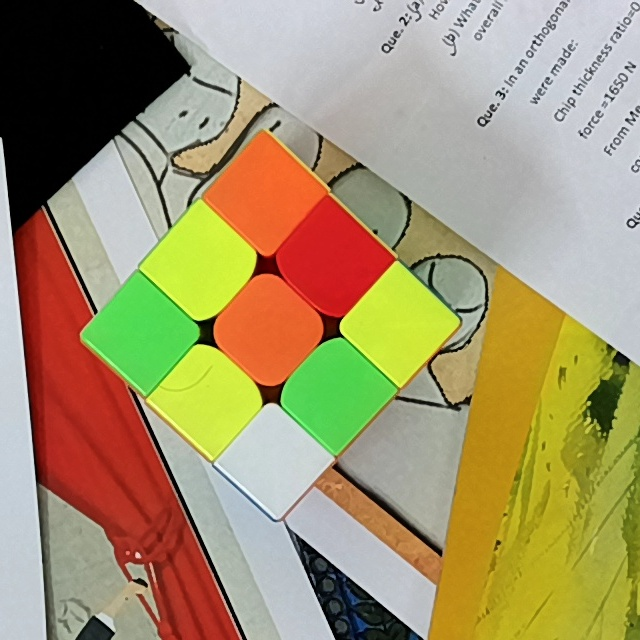tile: (236, 298, 301, 362), (300, 229, 364, 292), (232, 165, 294, 228), (170, 232, 232, 295), (176, 368, 237, 430), (111, 303, 172, 365), (370, 294, 429, 356), (305, 364, 366, 423), (244, 431, 304, 490)
